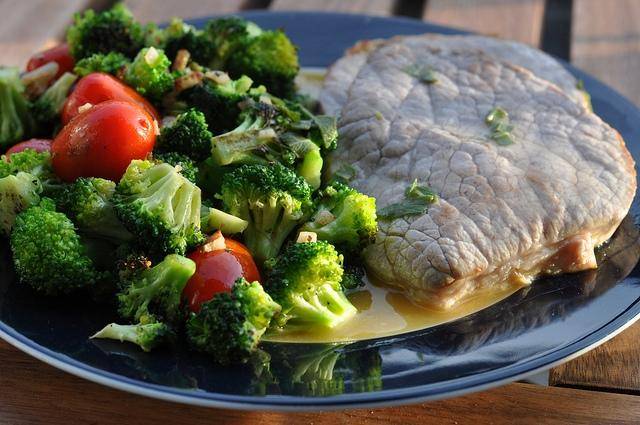broccoli: (10, 197, 118, 297), (214, 162, 314, 260), (178, 276, 282, 368), (262, 240, 358, 337), (108, 171, 206, 257), (294, 181, 378, 260), (52, 176, 135, 246), (205, 102, 291, 168), (115, 252, 196, 320), (68, 4, 146, 63), (222, 28, 298, 81), (0, 148, 70, 202), (90, 311, 178, 353), (176, 84, 244, 138), (152, 107, 214, 164), (91, 338, 180, 376), (0, 66, 40, 150), (27, 71, 78, 130), (115, 46, 172, 96), (0, 172, 43, 237), (286, 352, 344, 396), (164, 28, 218, 74), (345, 347, 383, 392), (20, 60, 58, 103), (204, 74, 253, 107), (74, 50, 132, 76), (148, 294, 182, 334), (200, 207, 248, 235), (294, 149, 323, 192), (150, 69, 188, 100), (164, 16, 192, 40), (272, 104, 300, 123), (342, 265, 364, 289), (266, 92, 286, 106)
tomato: (51, 99, 156, 186), (178, 238, 262, 315), (60, 71, 162, 128), (26, 43, 77, 90), (5, 138, 54, 163)
